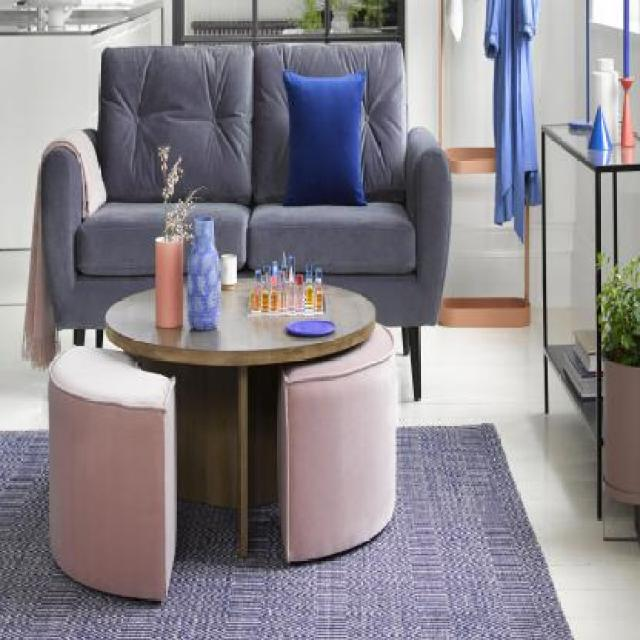Floor: (390, 307, 640, 639), (0, 305, 49, 430), (548, 308, 587, 345), (103, 329, 123, 352), (58, 329, 74, 352), (84, 330, 96, 348)
